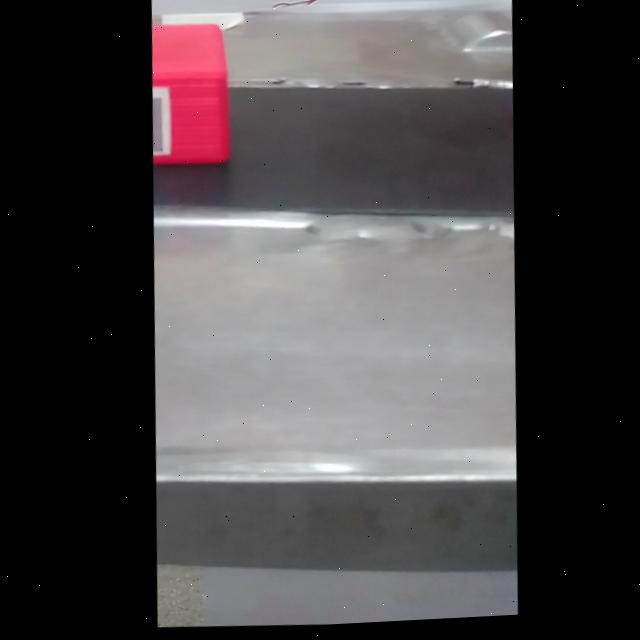redBox: (145, 11, 253, 194)
